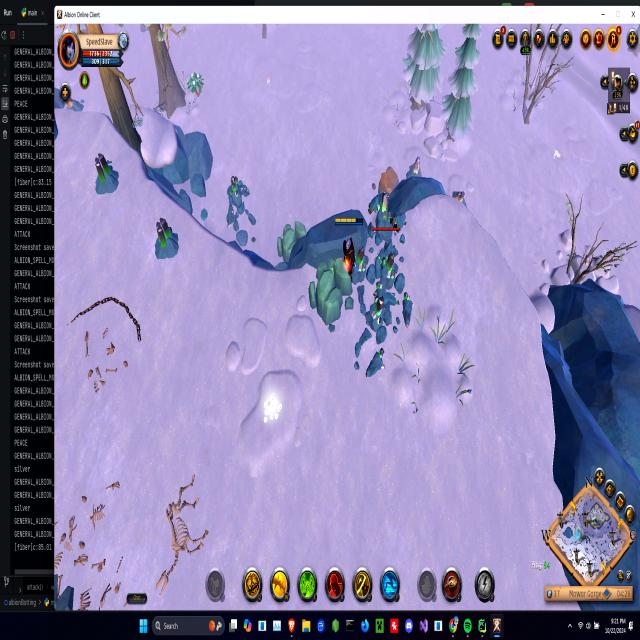hide: (186, 69, 204, 100)
ore: (362, 184, 407, 274), (221, 170, 260, 240)
player: (350, 240, 404, 390), (152, 214, 184, 268), (92, 152, 121, 198), (452, 184, 468, 211), (409, 157, 424, 182)
red: (334, 210, 363, 275)
stone: (262, 388, 283, 430)
tree: (308, 254, 354, 328), (276, 214, 308, 263), (374, 156, 406, 202)
